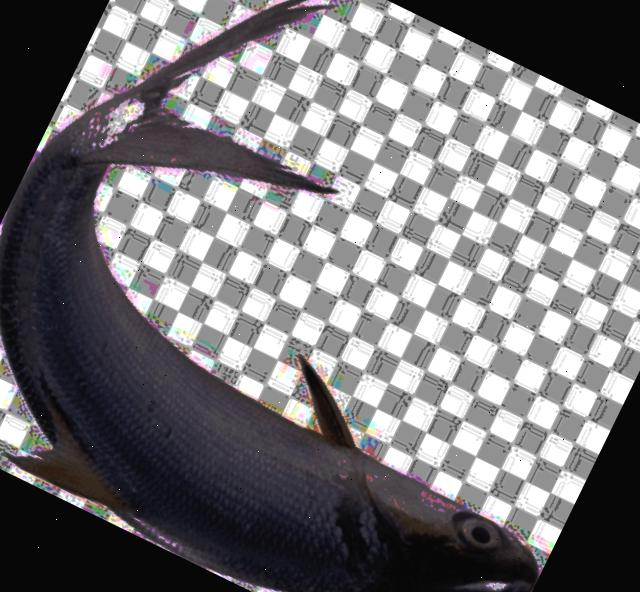Healthy Fish: (0, 0, 537, 592)
